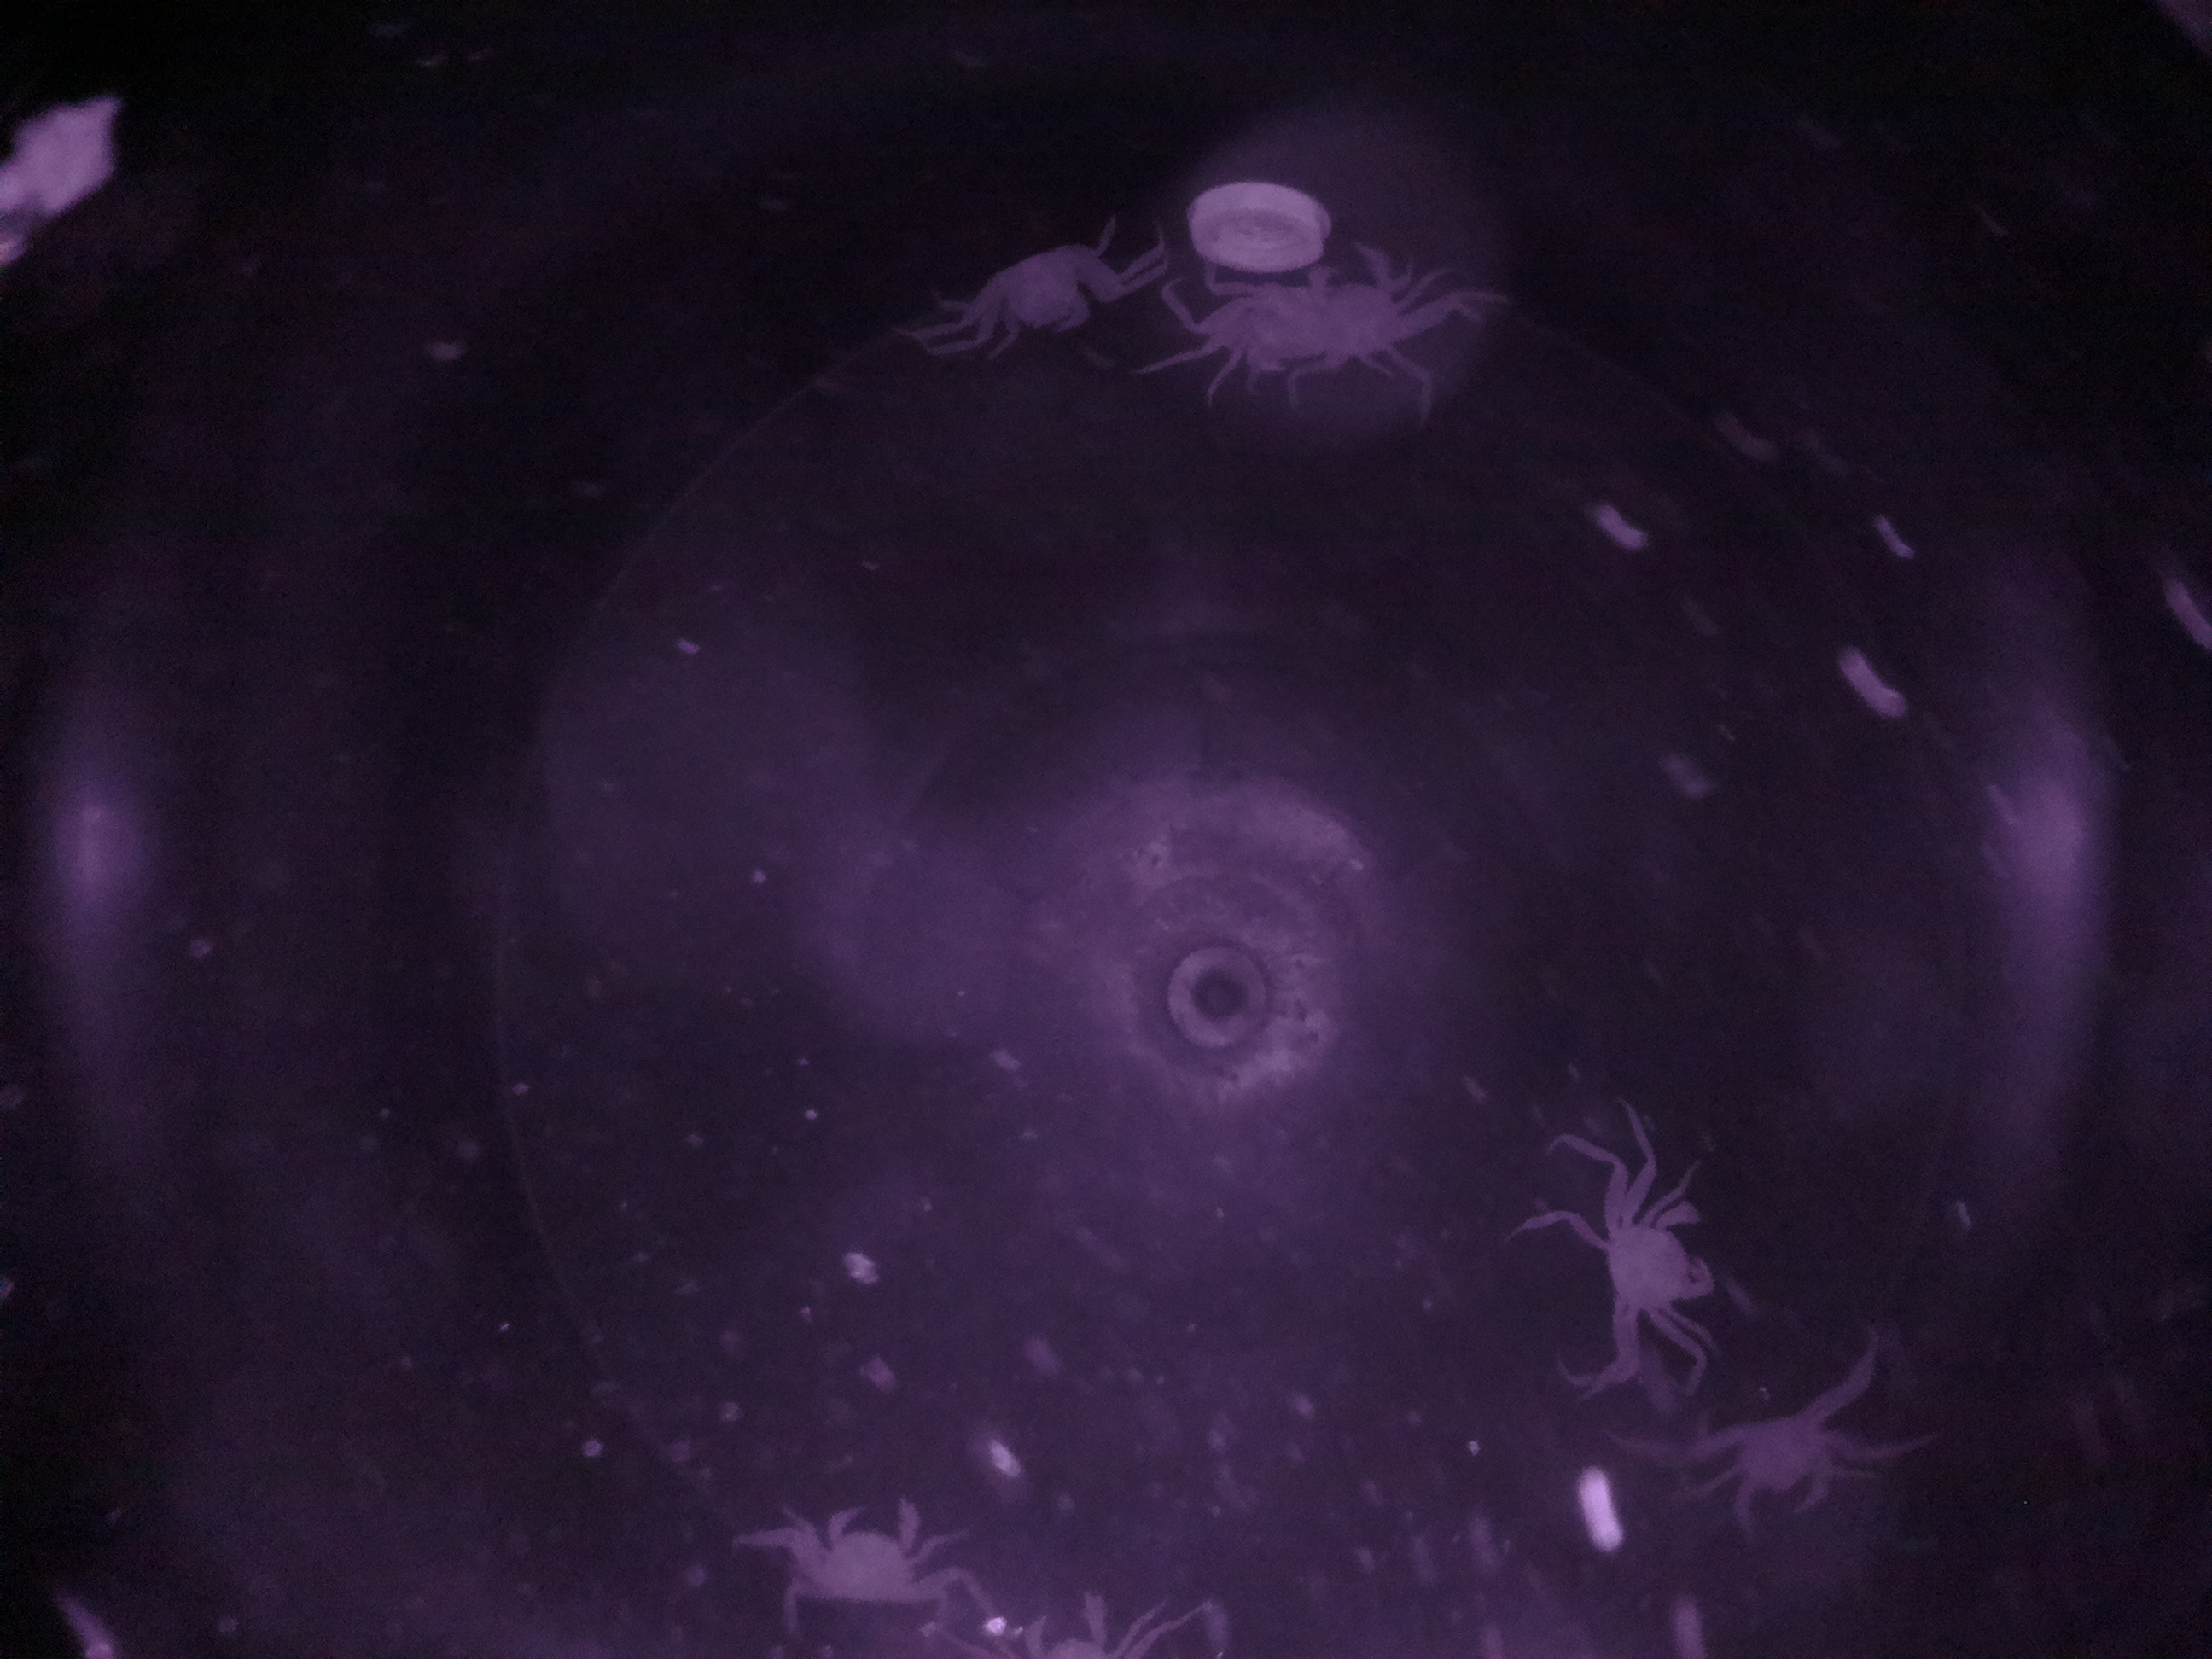Crab: (1696, 1375, 1869, 1554), (1583, 1171, 1742, 1364), (963, 195, 1127, 375), (784, 1488, 953, 1615)
